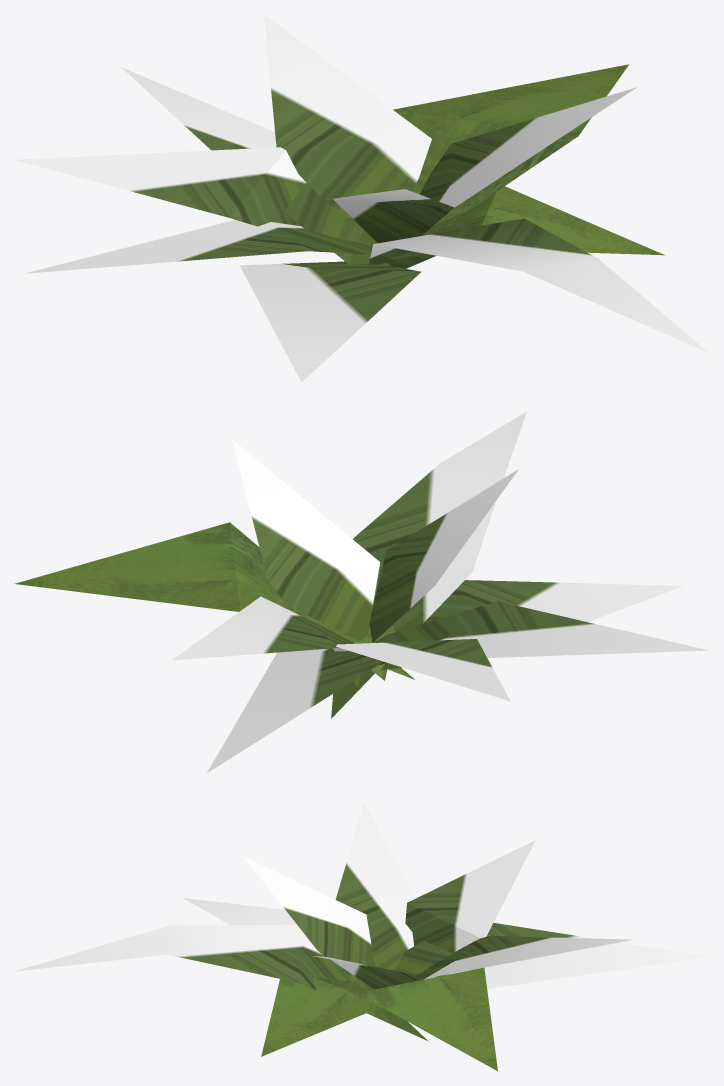
The model's file is Plante_01.fbx.
The picture shows the model from 3 angles, top to bottom: view 1: azimuth 30°, elevation 25°; view 2: azimuth 150°, elevation 25°; view 3: azimuth 270°, elevation 25°; orthographic projection. The views are drawn at different scales.
Visible parts, largest first — view 1: Plante_01; view 2: Plante_01; view 3: Plante_01.
Boxes of the visible parts, <box> form: Plante_01: <box>14,14,709,382</box>; Plante_01: <box>14,411,709,772</box>; Plante_01: <box>15,803,709,1071</box>.
Bounding box in the file's own units: 1.2 × 0.3493 × 1.42.
